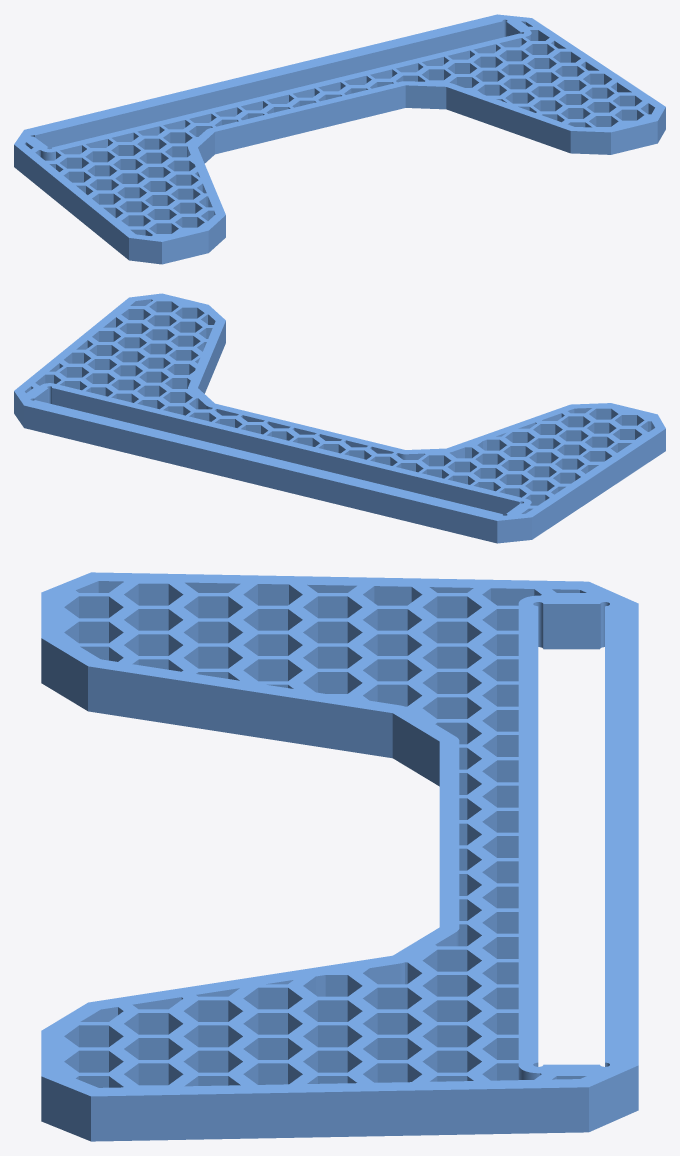
The model's file is monitor-stand.glb.
The picture shows the model from 3 angles, top to bottom: view 1: azimuth 30°, elevation 25°; view 2: azimuth 150°, elevation 25°; view 3: azimuth 270°, elevation 25°; orthographic projection. The views are drawn at different scales.
Visible parts, largest first — view 1: stand; view 2: stand; view 3: stand.
Boxes of the visible parts, x1,y1,x2,y2 form: stand: (14,14,665,264); stand: (14,293,665,543); stand: (41,572,638,1141).
Size of the model in its own units: 249 by 10 by 120.
